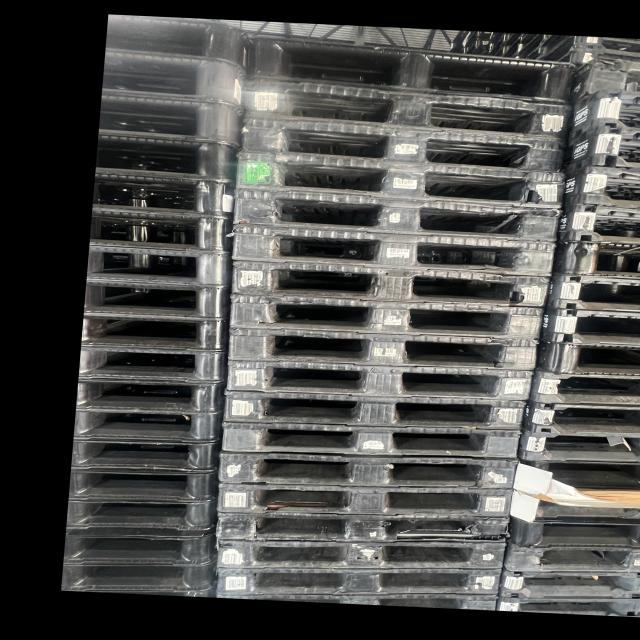igps: (232, 28, 582, 108), (228, 102, 576, 177), (228, 69, 580, 141), (221, 216, 563, 282), (220, 146, 575, 208), (218, 187, 567, 248), (224, 250, 556, 314), (225, 283, 548, 346), (221, 326, 545, 376), (210, 447, 527, 494), (214, 418, 528, 463), (210, 479, 519, 521), (218, 363, 541, 403), (220, 391, 535, 432), (209, 536, 513, 574), (210, 564, 512, 602), (97, 11, 256, 78), (82, 52, 253, 113), (84, 93, 252, 154), (206, 514, 520, 544), (85, 133, 243, 190), (85, 173, 239, 221), (84, 208, 238, 254), (69, 347, 233, 390), (76, 312, 236, 356), (78, 277, 235, 321), (64, 434, 225, 476), (58, 527, 221, 568), (70, 376, 232, 417), (81, 247, 238, 288), (55, 564, 222, 601), (211, 593, 503, 614), (62, 468, 220, 504), (63, 498, 220, 534), (492, 564, 640, 602), (67, 412, 226, 446), (522, 367, 640, 412), (539, 266, 640, 318), (513, 400, 640, 441), (511, 427, 640, 467), (501, 514, 640, 551), (534, 304, 640, 350), (495, 540, 640, 573), (554, 154, 640, 208), (491, 591, 640, 621), (546, 237, 640, 284), (533, 338, 640, 379), (552, 200, 640, 244)
